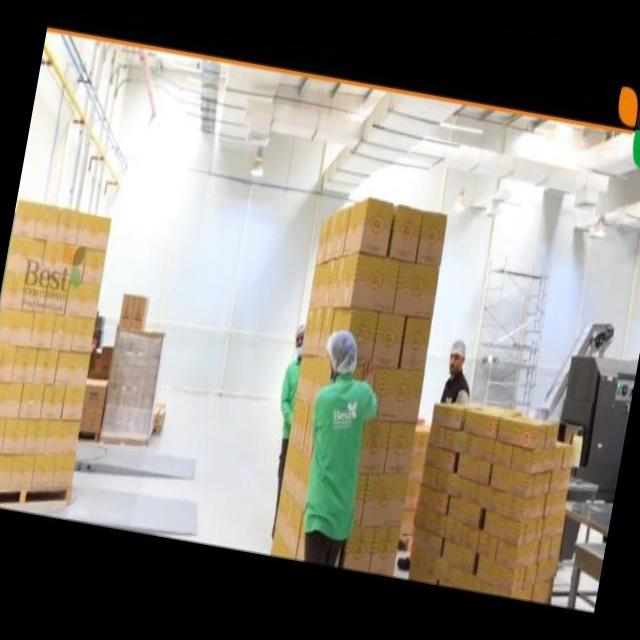hairnet: (322, 328, 361, 375), (448, 336, 471, 358), (294, 318, 306, 339)
